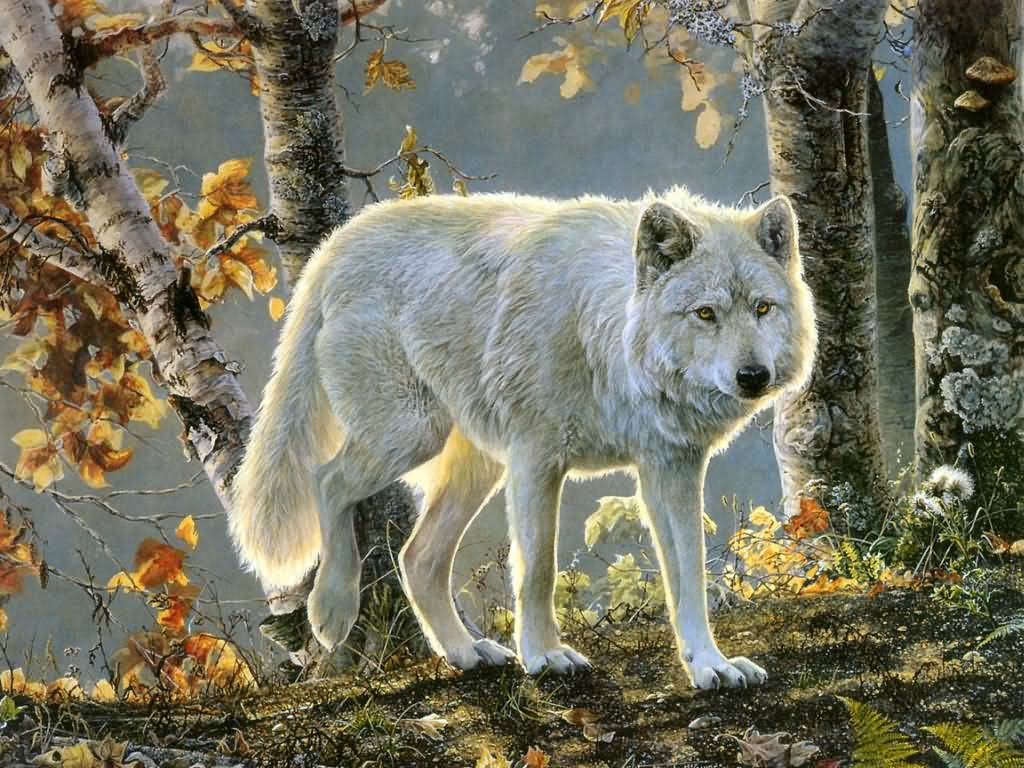wolf: (223, 186, 857, 696)
